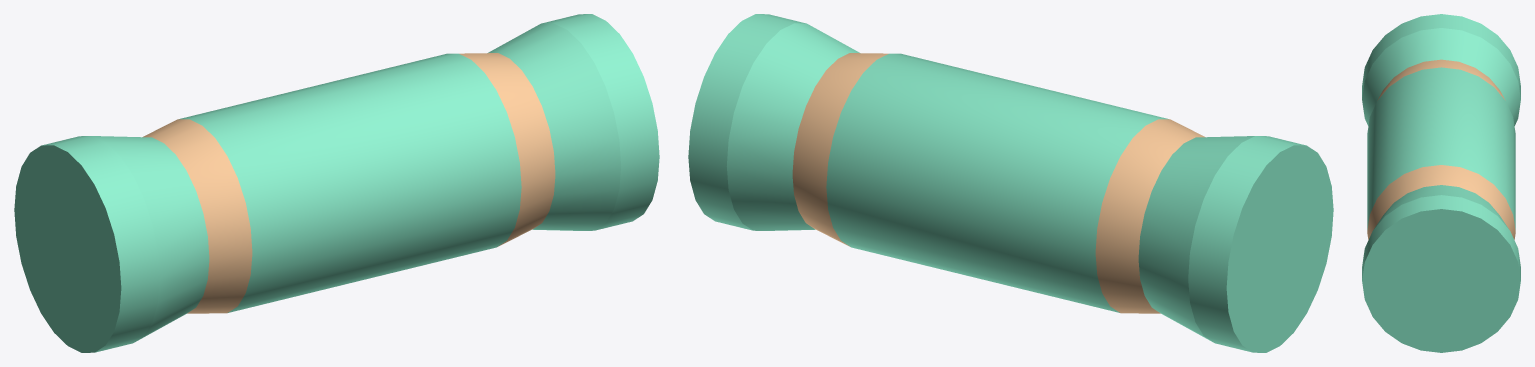
3 renders of one model, left to right at view 1: azimuth 30°, elevation 25°; view 2: azimuth 150°, elevation 25°; view 3: azimuth 270°, elevation 25°, orthographic. The views are drawn at different scales.
Visible parts, largest first — view 1: bedrollPacked; view 2: bedrollPacked; view 3: bedrollPacked.
Part boxes in pixels (left/top/right/bottom): bedrollPacked: left=14, top=14, right=659, bottom=352; bedrollPacked: left=688, top=14, right=1333, bottom=352; bedrollPacked: left=1362, top=14, right=1520, bottom=352.
Bounding box in the file's own units: 0.2604 × 0.0897 × 0.0897.
